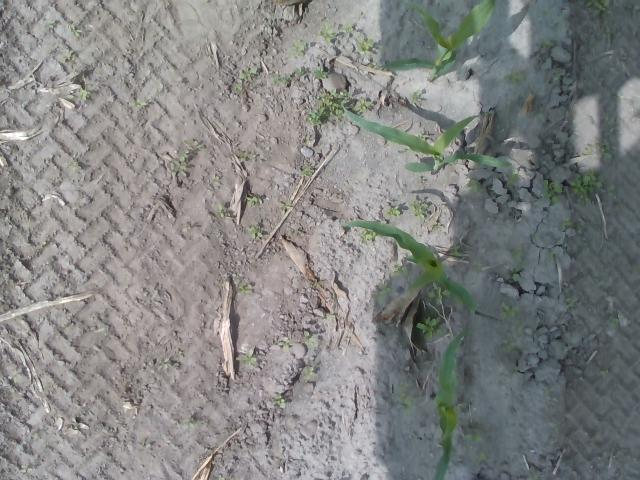Maize: (340, 215, 480, 321), (331, 95, 512, 172), (380, 0, 496, 85), (430, 316, 473, 480)
Weeds: (305, 87, 373, 125), (168, 140, 206, 178), (568, 170, 605, 204), (271, 64, 327, 85), (230, 64, 260, 92), (414, 313, 444, 340), (500, 319, 524, 352), (400, 382, 419, 415), (577, 0, 614, 16), (410, 197, 430, 224), (583, 142, 611, 160), (542, 180, 562, 205), (426, 282, 448, 303), (562, 287, 579, 313), (235, 350, 257, 370), (498, 302, 522, 319), (233, 272, 251, 294), (465, 428, 485, 445), (355, 227, 376, 243), (504, 70, 526, 84), (378, 286, 393, 306), (354, 40, 375, 54), (60, 46, 76, 64), (319, 24, 335, 42), (286, 42, 304, 57), (302, 330, 315, 350), (502, 270, 520, 284), (382, 206, 401, 219), (300, 366, 316, 380), (272, 394, 286, 410), (129, 99, 149, 110), (247, 224, 262, 238), (66, 24, 81, 38), (390, 265, 410, 275), (240, 152, 258, 163), (558, 219, 573, 232), (279, 337, 290, 354), (466, 180, 479, 194), (410, 92, 424, 104), (509, 246, 523, 258), (606, 315, 618, 328), (246, 195, 260, 206), (478, 449, 490, 461), (448, 246, 461, 257), (302, 166, 312, 179), (598, 367, 610, 377), (416, 133, 428, 143), (78, 86, 86, 100), (218, 207, 226, 218), (528, 474, 542, 480), (46, 20, 54, 30), (342, 24, 352, 32)
